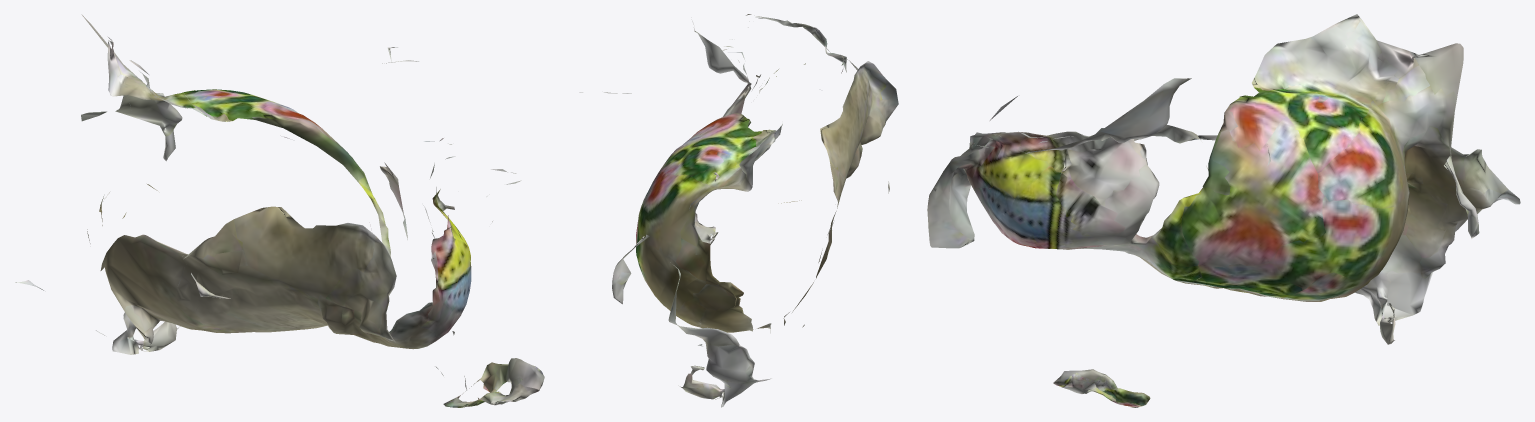
File: hall.glb
3 views of the same model, side by side, from view 1: azimuth 30°, elevation 25°; view 2: azimuth 150°, elevation 25°; view 3: azimuth 270°, elevation 25° (orthographic). The views are drawn at different scales.
Size of the model in its own units: 1.57 by 1.55 by 2.59.
1 material, 1 textured.
